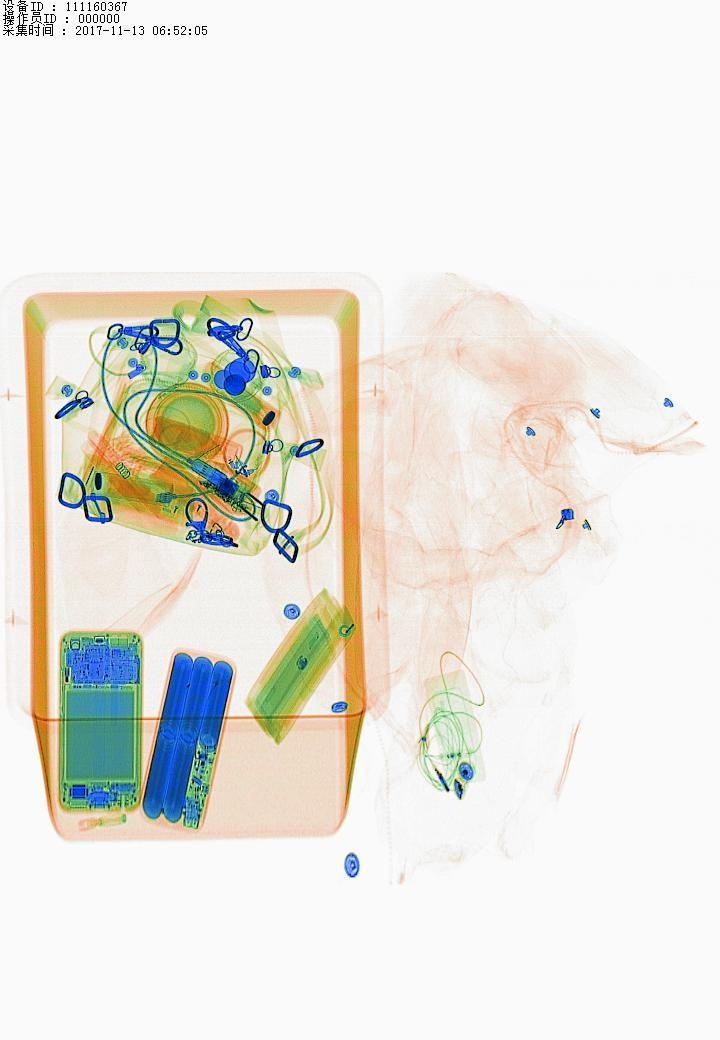core: (153, 646, 223, 823)
